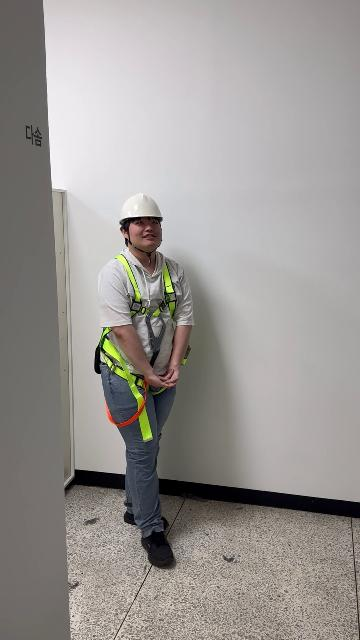helmet_worn: (117, 192, 164, 227)
shoe_not_worn: (141, 529, 174, 567), (124, 509, 167, 529)
vest_worn: (93, 257, 189, 431)
